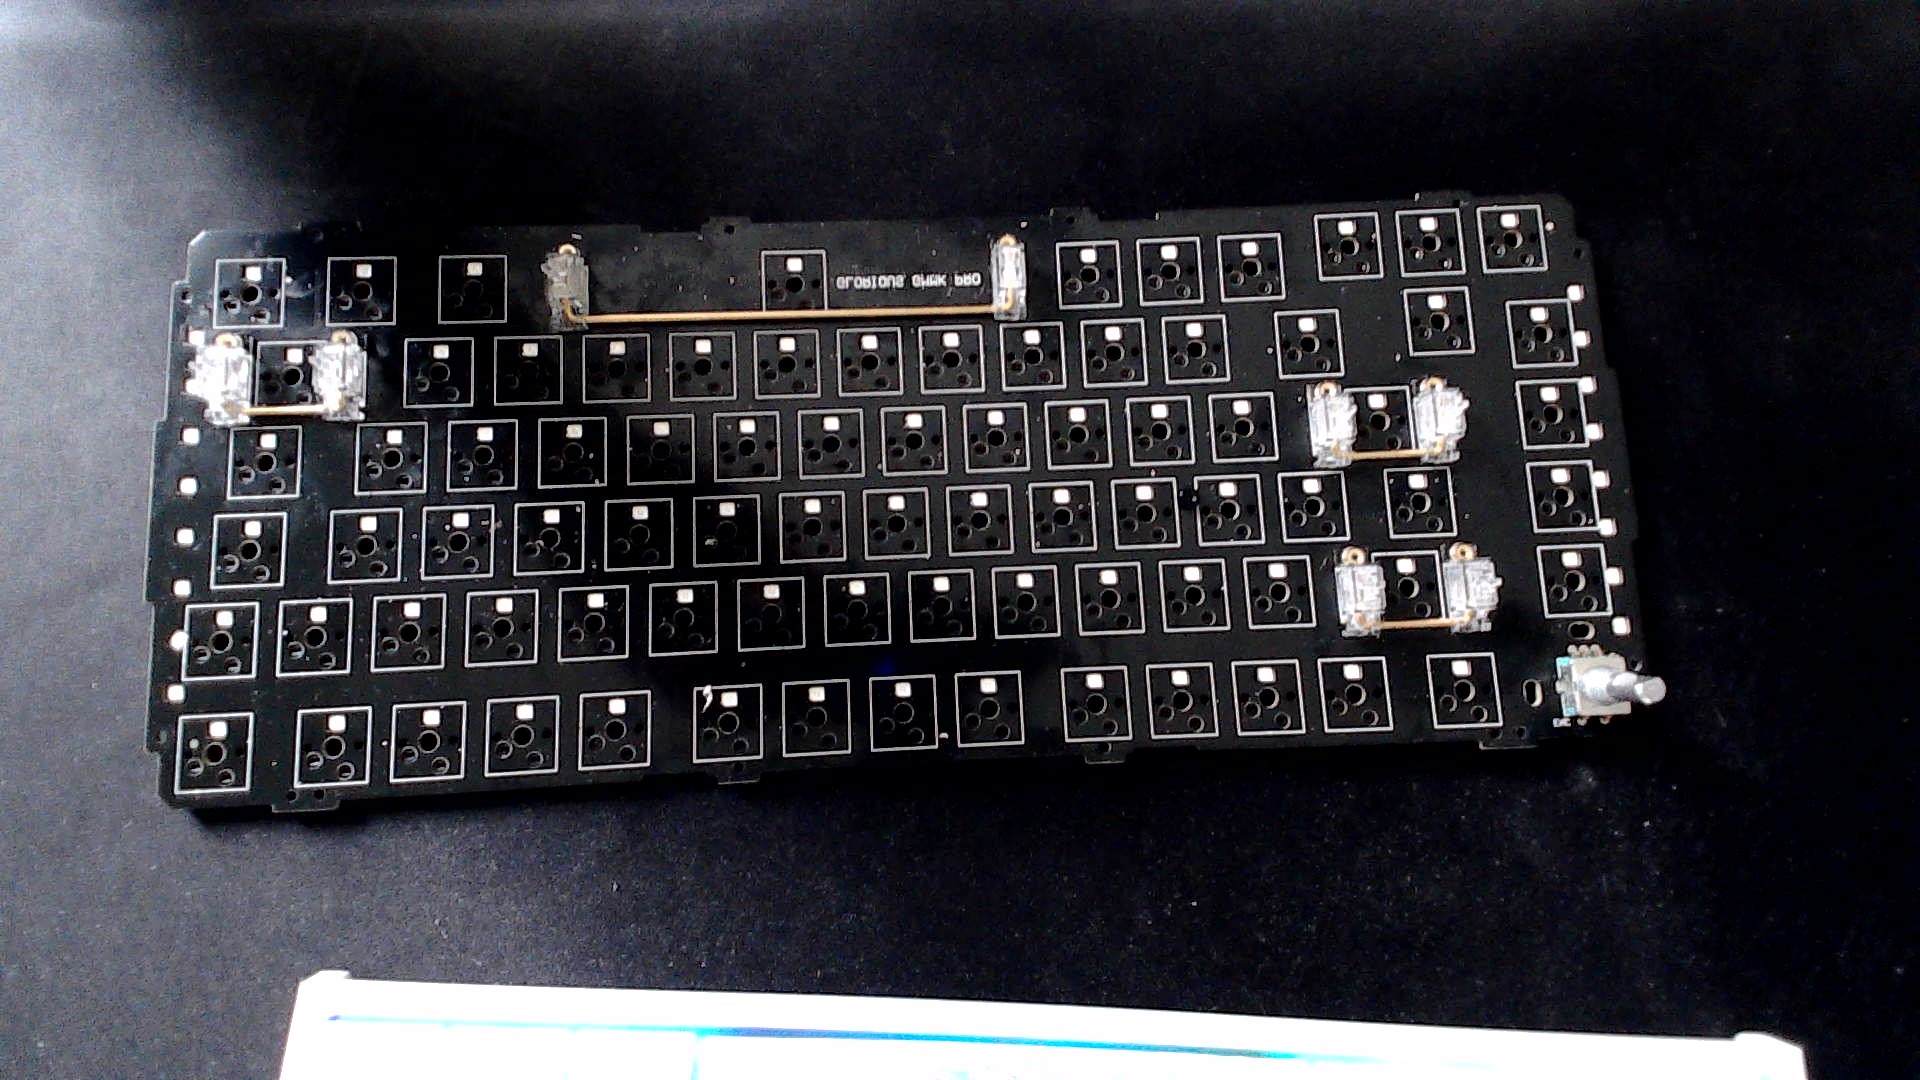pcb: (109, 141, 1708, 841)
